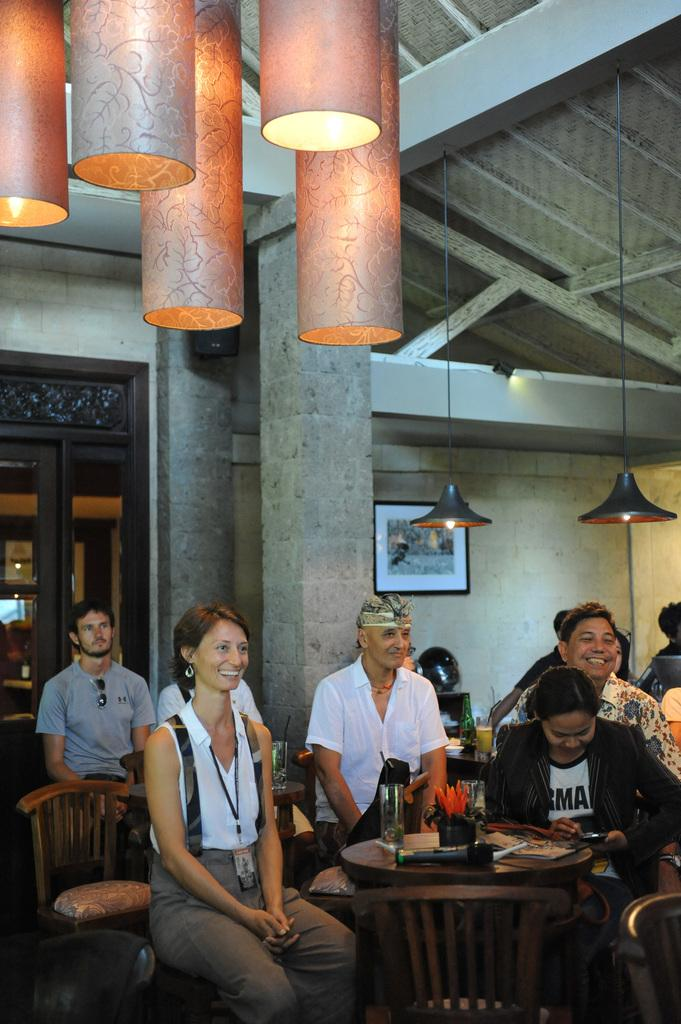Chair: (352, 884, 579, 1023), (15, 779, 151, 935), (615, 891, 680, 1023)
